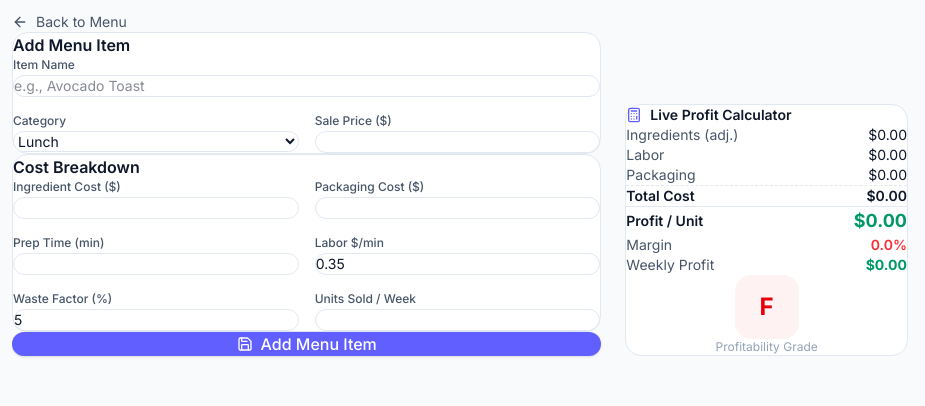
Test: AddEditItem › shows validation errors on empty submit
The image size is (925, 406).
What coordinates should you click on to do the following:
click the button "Add Menu Item"
I would click on:
 (307, 344)
Its box is [12,332,601,356].
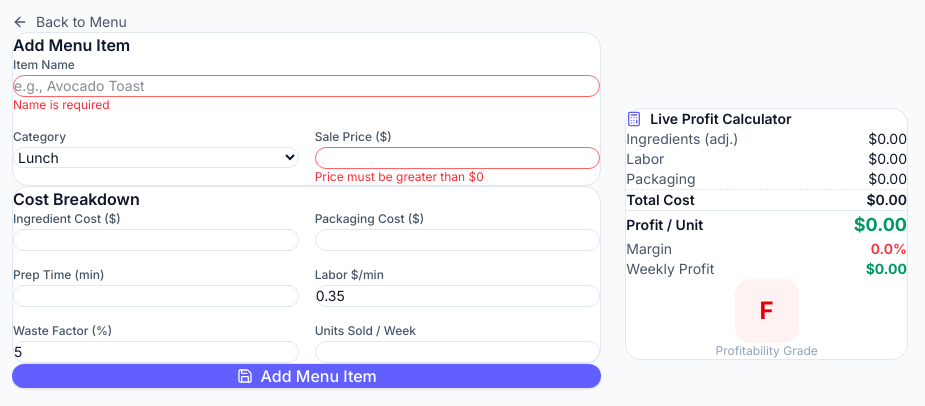
Now the text "Name is required" is shown, box [13,97,110,112]
Now the text "Price must be greater than $0" is shown, box [315,169,484,184]
